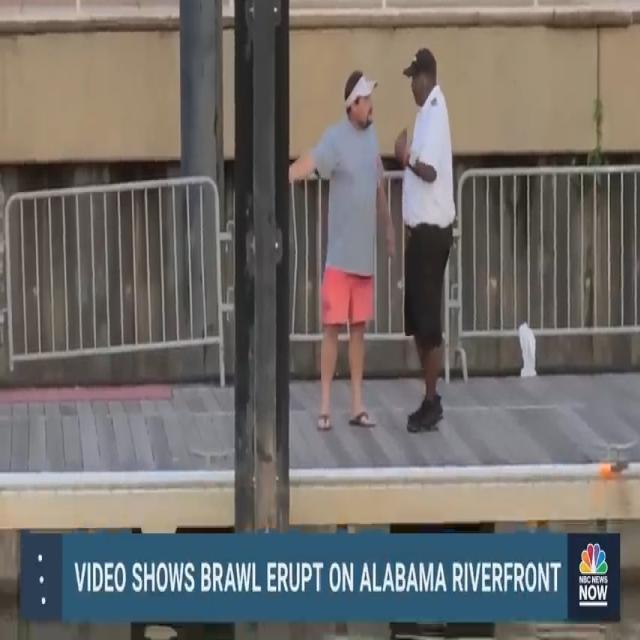non-fight: (291, 43, 456, 442)
